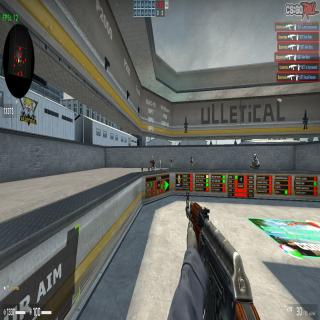CT-Body: (250, 153, 260, 170), (190, 156, 193, 169)
CT-Head: (253, 154, 257, 162), (191, 156, 192, 159)
T-Body: (150, 156, 155, 170), (170, 157, 172, 169)
T-Head: (170, 156, 172, 160), (152, 156, 153, 160)
